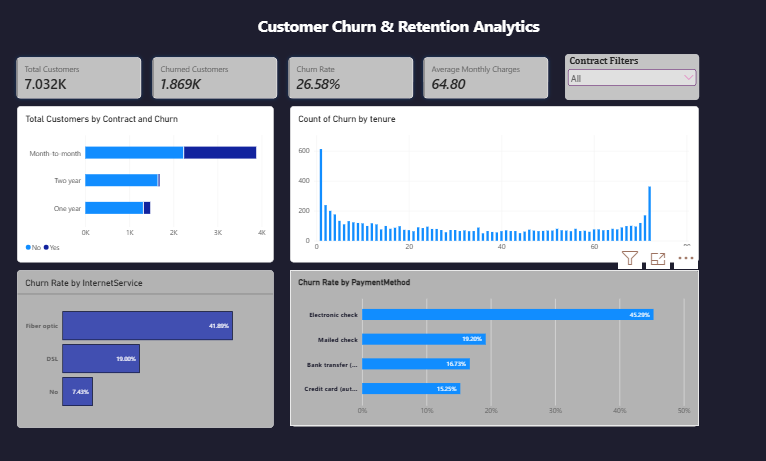

The dashboard page shown, as its layout file describes it:
{"tool":"powerbi","page":{"name":"Page 1","canvas":[1920,1080],"ordinal":0},"visuals":[{"type":"cardVisual","fields":{"Data":["Customers.Total Customers"]},"box":[29.8,166.6,280,107.1],"z":0},{"type":"cardVisual","fields":{"Data":["Customers.Average Monthly Charges"]},"box":[869.8,166.6,280,107.1],"z":1000},{"type":"cardVisual","fields":{"Data":["Customers.Churn Rate"]},"box":[589.8,166.6,280,107.1],"z":2000},{"type":"cardVisual","fields":{"Data":["Customers.Churned Customers"]},"box":[309.8,166.6,280,107.1],"z":3000},{"type":"clusteredBarChart","fields":{"Category":["Customers.InternetService"],"Y":["Customers.Churn Rate"]},"box":[41.9,616.3,530.2,325.6],"z":4000},{"type":"clusteredColumnChart","fields":{"Category":["Customers.tenure"],"Y":["CountNonNull(Customers.Churn)"]},"box":[604.7,279.1,844.2,323.3],"z":4001},{"type":"clusteredBarChart","fields":{"Category":["Customers.PaymentMethod"],"Y":["Customers.Churn Rate"]},"box":[604.7,616.3,844.2,323.3],"z":4002},{"type":"barChart","fields":{"Category":["Customers.Contract"],"Series":["Customers.Churn"],"Y":["Customers.Total Customers"]},"box":[41.9,279.1,530.2,323.3],"z":4003},{"type":"slicer","fields":{"Values":["Customers.Contract","Customers.PaymentMethod"]},"box":[1172.1,172.1,276.7,95.3],"z":4004},{"type":"textbox","box":[28,90,1600,62],"z":4005}]}

Visuals, with their boxes on the page's 1920x1080 design canvas (x1, y1, x2, y2). These are canvas units, not pixel positions in the 766x461 screenshot, which may show the page scaled, cropped or inside an application window:
cardVisual - Customers.Total Customers: select_region(30, 167, 310, 274)
cardVisual - Customers.Average Monthly Charges: select_region(870, 167, 1150, 274)
cardVisual - Customers.Churn Rate: select_region(590, 167, 870, 274)
cardVisual - Customers.Churned Customers: select_region(310, 167, 590, 274)
clusteredBarChart - Customers.InternetService x Customers.Churn Rate: select_region(42, 616, 572, 942)
clusteredColumnChart - Customers.tenure x CountNonNull(Customers.Churn): select_region(605, 279, 1449, 602)
clusteredBarChart - Customers.PaymentMethod x Customers.Churn Rate: select_region(605, 616, 1449, 940)
barChart - Customers.Contract x Customers.Churn: select_region(42, 279, 572, 602)
slicer - Customers.Contract x Customers.PaymentMethod: select_region(1172, 172, 1449, 267)
textbox: select_region(28, 90, 1628, 152)
